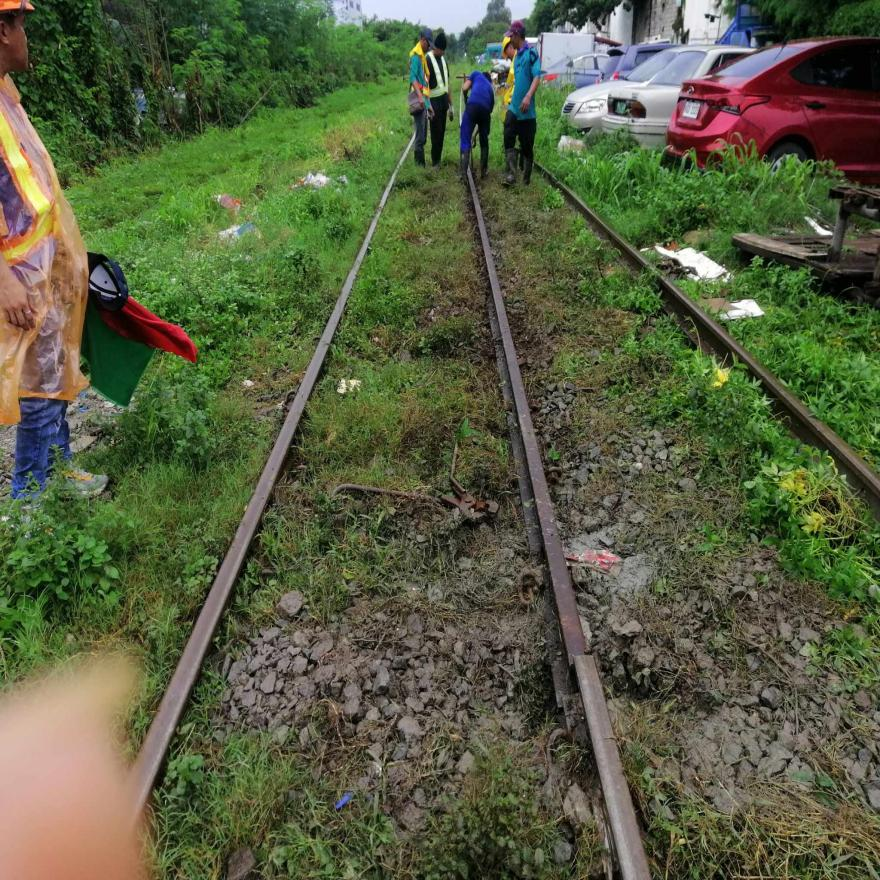railway-gap: (535, 616, 610, 726)
